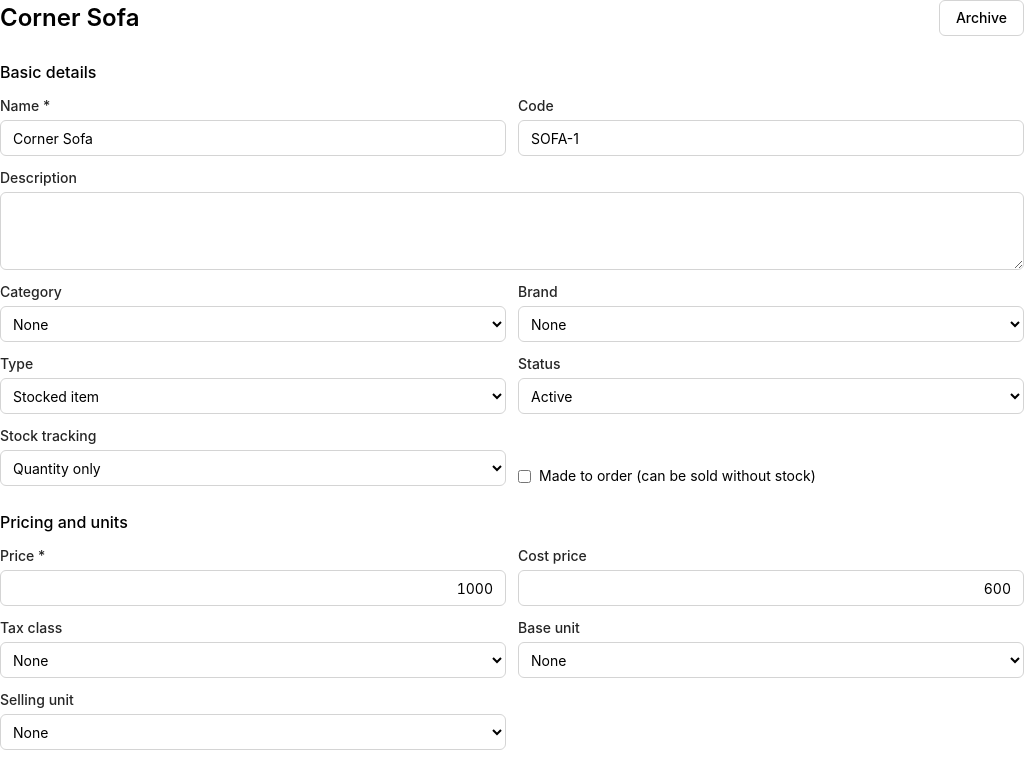
ProductForm — edit › archives after confirmation, and archived products are read-only with a restore button
Click the button "Archive": (981, 18) [939,0,1023,36]
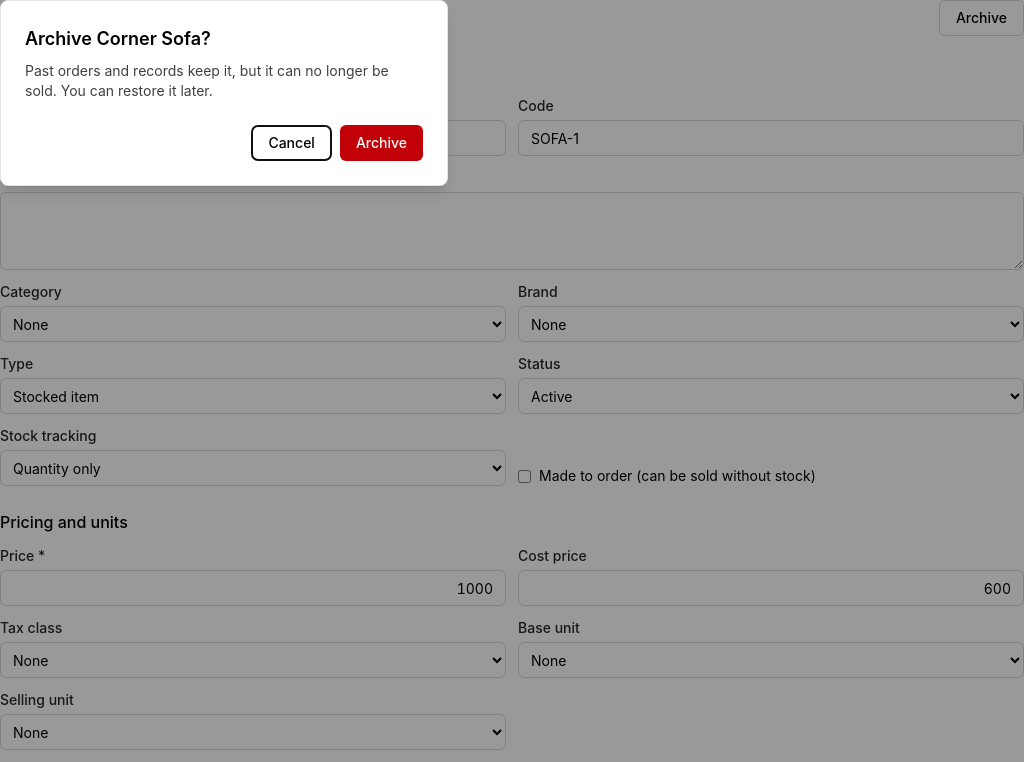
Click the button "Archive": (381, 143) [340,125,423,161]
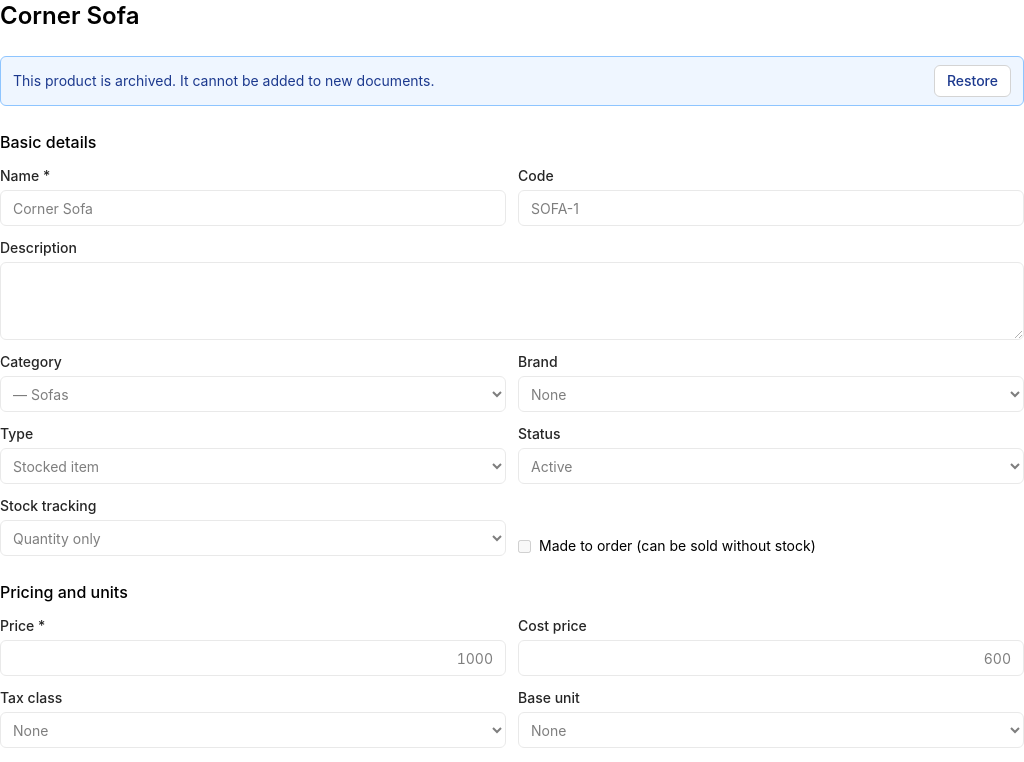
Now the button "Restore" is shown, box [934,65,1011,97]
Now the text "This product is archived" is shown, box [13,72,434,89]
Now the field labelled "Name *" is disabled, box [0,190,506,226]
